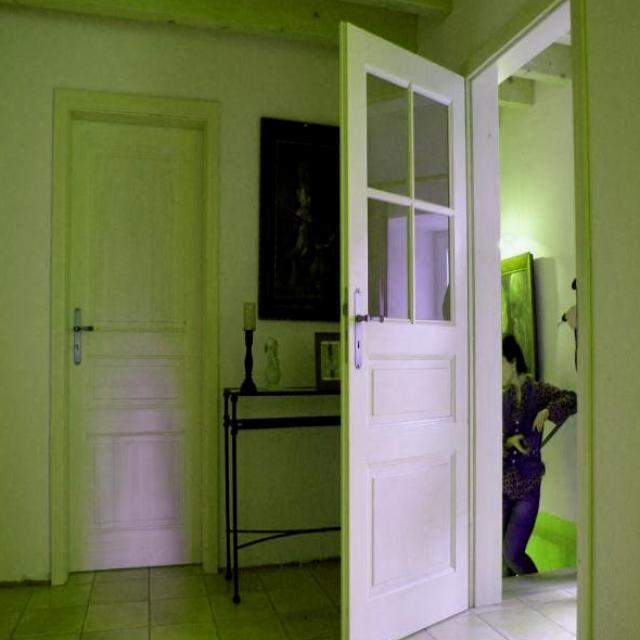door: (339, 19, 471, 638), (61, 110, 211, 576)
